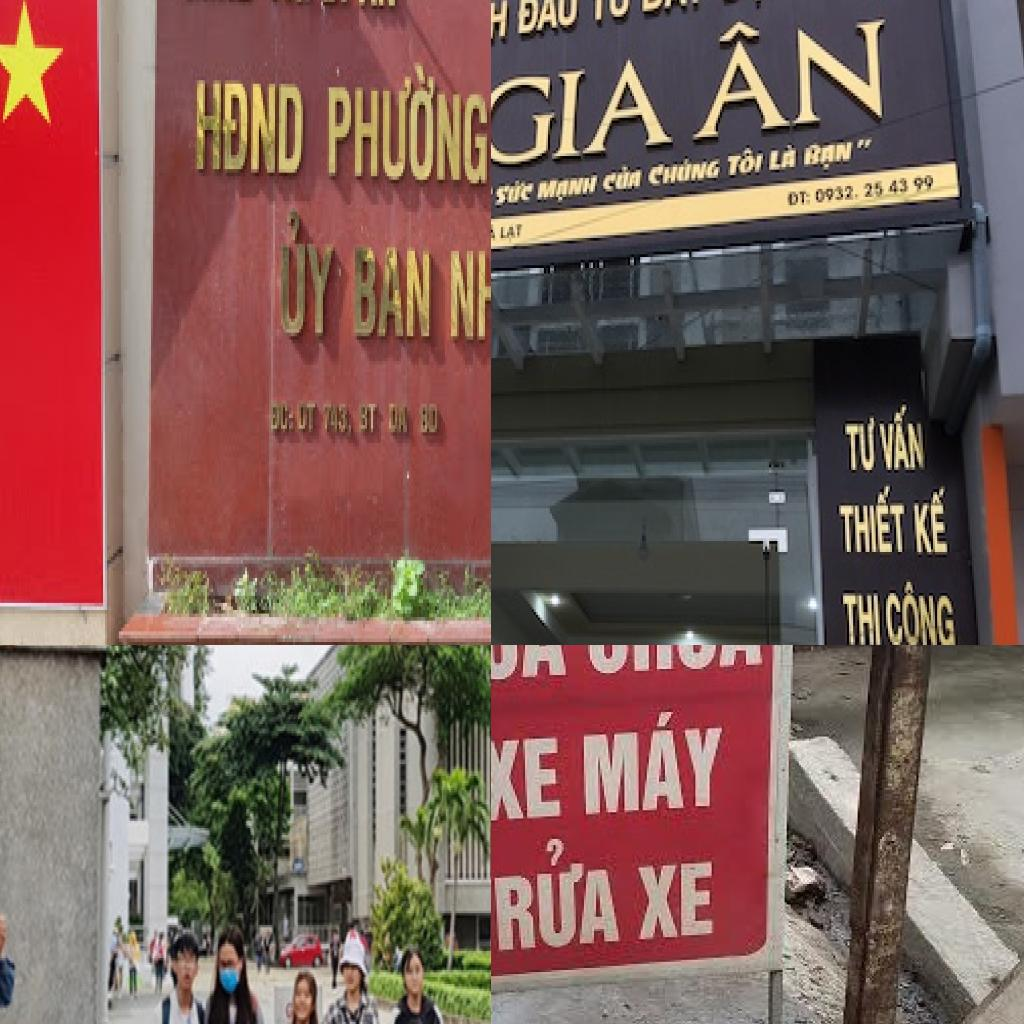text: (687, 6, 890, 145), (327, 55, 491, 193), (491, 49, 677, 169), (580, 708, 732, 820), (491, 830, 626, 955), (193, 77, 311, 187), (351, 237, 437, 347), (277, 201, 343, 340), (491, 734, 565, 826), (583, 645, 768, 681), (830, 481, 908, 563), (447, 225, 491, 350), (884, 582, 962, 645), (814, 170, 937, 208), (880, 402, 929, 478), (646, 156, 724, 194), (910, 487, 950, 560), (804, 134, 874, 175), (839, 590, 884, 645), (517, 0, 582, 38), (839, 416, 880, 476), (538, 170, 601, 208), (585, 0, 638, 33), (600, 162, 646, 200), (491, 175, 537, 210), (726, 145, 767, 181), (321, 397, 355, 439), (640, 0, 709, 19), (767, 140, 802, 175), (491, 0, 513, 55), (269, 396, 299, 436), (385, 397, 411, 443), (419, 397, 443, 443), (355, 397, 381, 439), (297, 397, 319, 439), (357, 0, 399, 19), (499, 219, 525, 246), (786, 186, 812, 211), (491, 221, 498, 246)
